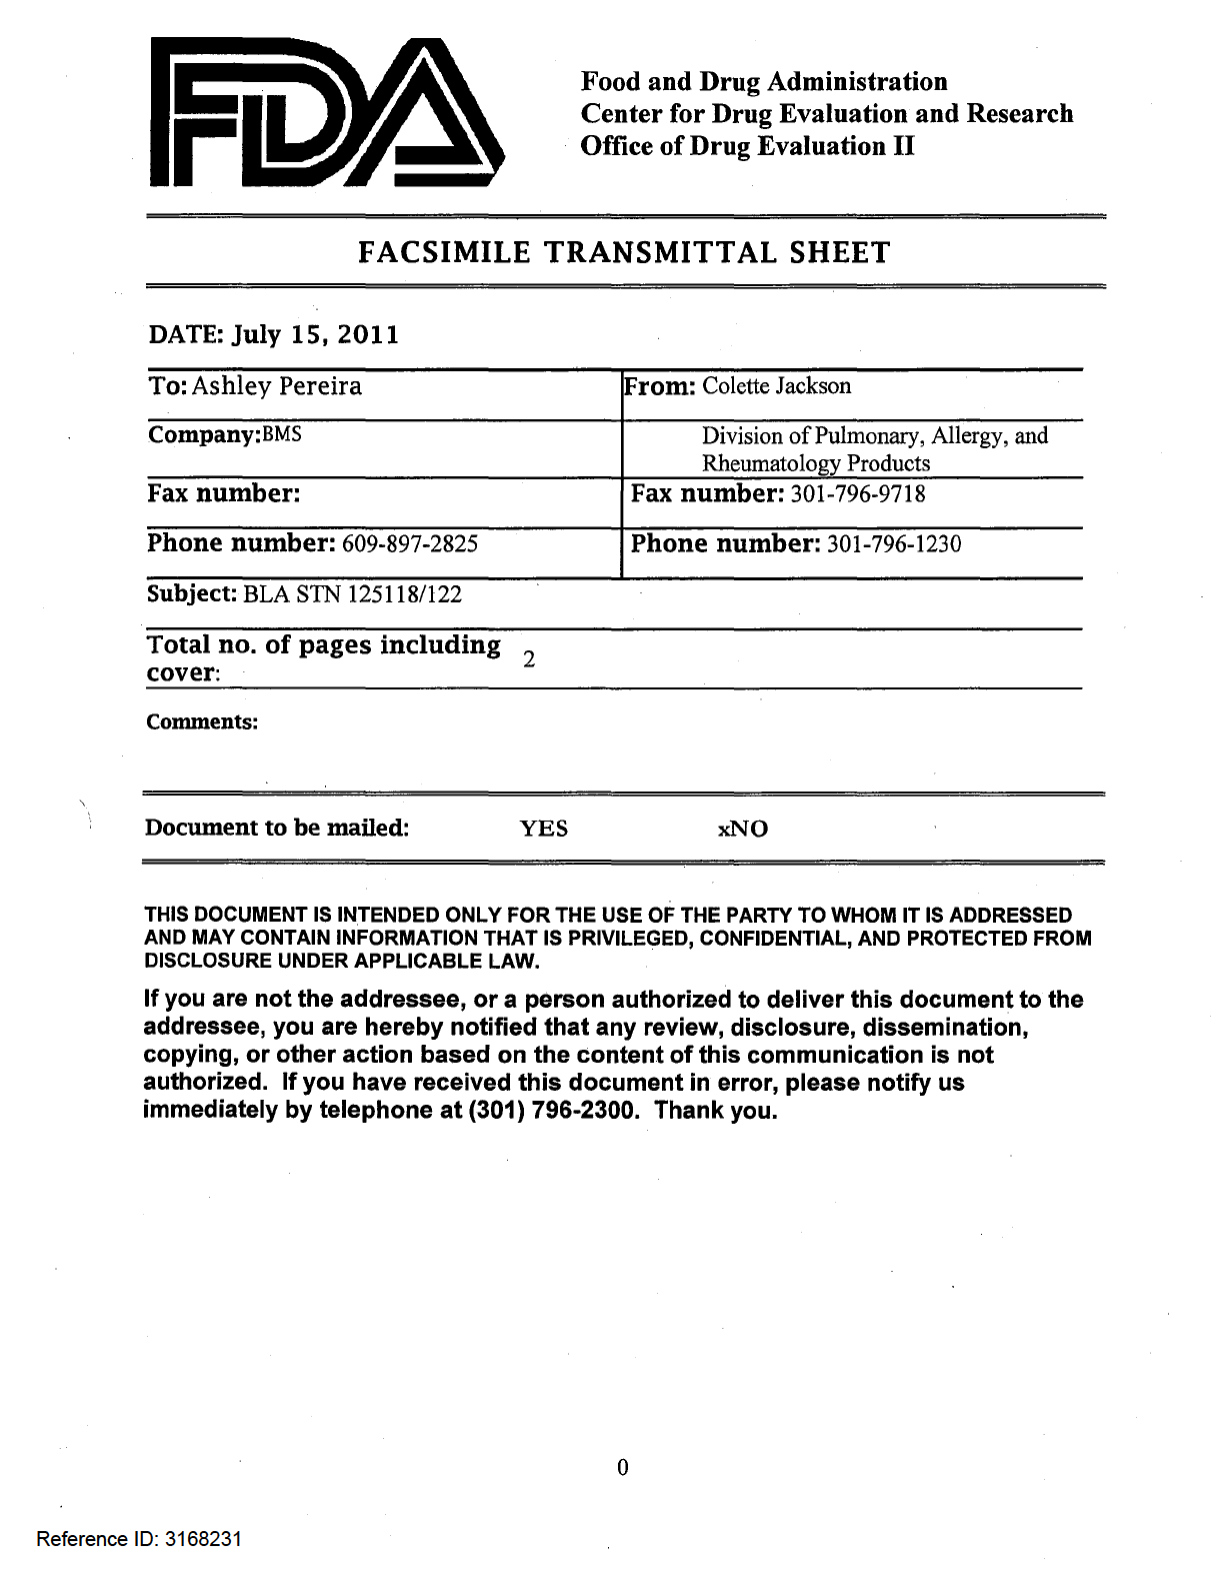partial_lined_merged_cells: (141, 282, 1107, 865)
